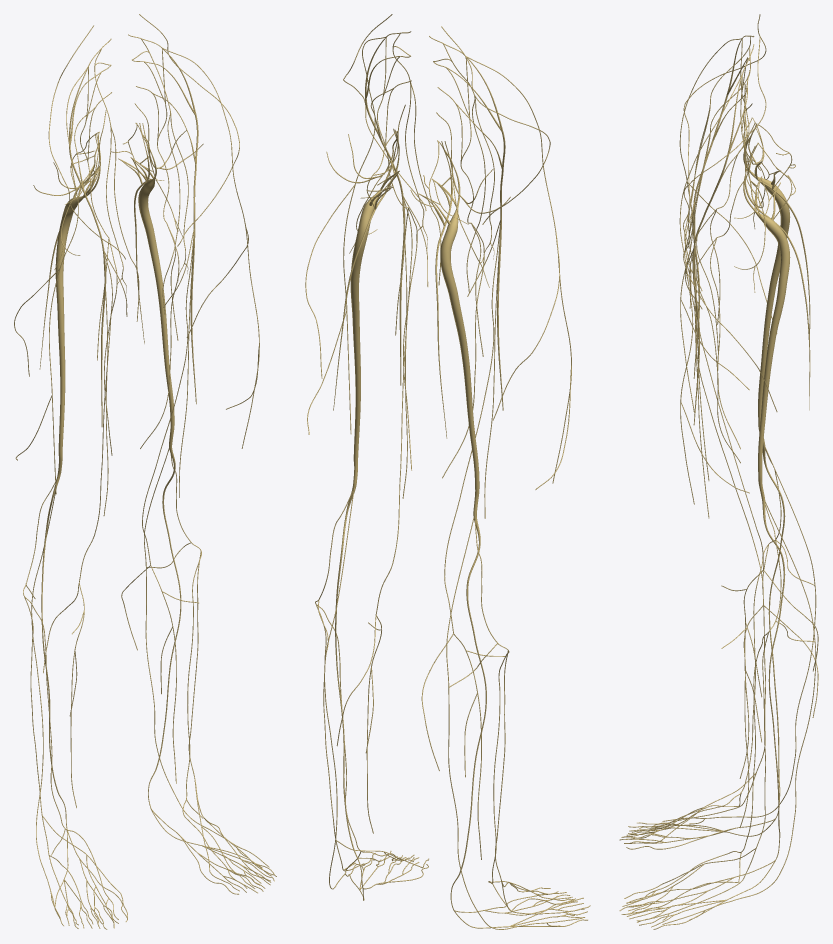
File: nervous-lower-limb-balanced.glb
The picture shows the model from 3 angles, left to right: view 1: azimuth 30°, elevation 25°; view 2: azimuth 150°, elevation 25°; view 3: azimuth 270°, elevation 25°; orthographic projection. The views are drawn at different scales.
Visible parts, largest first — view 1: za.sciatic-nerve-r, za.sciatic-nerve-l, za.femoral-nerve-l, za.femoral-nerve-r, za.saphenous-nerve-l, za.saphenous-nerve-r, za.lateral-femoral-cutaneous-nerve-r, za.lateral-femoral-cutaneous-nerve-l, za.tibial-nerve-l, za.tibial-nerve-r; view 2: za.sciatic-nerve-r, za.sciatic-nerve-l, za.saphenous-nerve-r, za.saphenous-nerve-l, za.lateral-femoral-cutaneous-nerve-l, za.lateral-femoral-cutaneous-nerve-r, za.femoral-nerve-r, za.femoral-nerve-l, za.tibial-nerve-r, za.tibial-nerve-l, za.sural-nerve-r; view 3: za.sciatic-nerve-l, za.sciatic-nerve-r, za.saphenous-nerve-l, za.lateral-femoral-cutaneous-nerve-l, za.femoral-nerve-l, za.saphenous-nerve-r, za.lateral-femoral-cutaneous-nerve-r, za.femoral-nerve-r, za.tibial-nerve-l, za.tibial-nerve-r, za.sural-nerve-l, za.sural-nerve-r (+3 smaller).
Boxes of the visible parts, x1=… form: za.sciatic-nerve-r: x1=55, y1=133, x2=99, y2=471; za.sciatic-nerve-l: x1=119, y1=123, x2=174, y2=444; za.femoral-nerve-l: x1=128, y1=34, x2=198, y2=404; za.femoral-nerve-r: x1=69, y1=38, x2=111, y2=427; za.saphenous-nerve-l: x1=121, y1=231, x2=194, y2=783; za.saphenous-nerve-r: x1=43, y1=253, x2=112, y2=807; za.lateral-femoral-cutaneous-nerve-r: x1=14, y1=66, x2=88, y2=494; za.lateral-femoral-cutaneous-nerve-l: x1=162, y1=48, x2=259, y2=448; za.tibial-nerve-l: x1=148, y1=444, x2=181, y2=807; za.tibial-nerve-r: x1=41, y1=471, x2=67, y2=827; za.sciatic-nerve-r: x1=418, y1=141, x2=479, y2=512; za.sciatic-nerve-l: x1=350, y1=130, x2=397, y2=483; za.saphenous-nerve-r: x1=421, y1=224, x2=500, y2=859; za.saphenous-nerve-l: x1=336, y1=198, x2=412, y2=833; za.lateral-femoral-cutaneous-nerve-l: x1=305, y1=37, x2=385, y2=434; za.lateral-femoral-cutaneous-nerve-r: x1=466, y1=56, x2=571, y2=489; za.femoral-nerve-r: x1=429, y1=36, x2=505, y2=410; za.femoral-nerve-l: x1=365, y1=31, x2=411, y2=385; za.tibial-nerve-r: x1=450, y1=512, x2=486, y2=909; za.tibial-nerve-l: x1=335, y1=483, x2=363, y2=887; za.sural-nerve-r: x1=446, y1=634, x2=582, y2=929; za.sciatic-nerve-l: x1=743, y1=145, x2=790, y2=497; za.sciatic-nerve-r: x1=743, y1=123, x2=790, y2=442; za.saphenous-nerve-l: x1=689, y1=251, x2=818, y2=827; za.lateral-femoral-cutaneous-nerve-l: x1=679, y1=74, x2=777, y2=504; za.femoral-nerve-l: x1=692, y1=44, x2=754, y2=425; za.saphenous-nerve-r: x1=689, y1=205, x2=818, y2=778; za.lateral-femoral-cutaneous-nerve-r: x1=679, y1=38, x2=777, y2=412; za.femoral-nerve-r: x1=692, y1=35, x2=754, y2=378; za.tibial-nerve-l: x1=761, y1=497, x2=785, y2=859; za.tibial-nerve-r: x1=762, y1=442, x2=785, y2=818; za.sural-nerve-l: x1=662, y1=594, x2=816, y2=924; za.sural-nerve-r: x1=662, y1=544, x2=816, y2=824.
Bounding box in the file's own units: 0.3175 × 1.11 × 0.2357.
